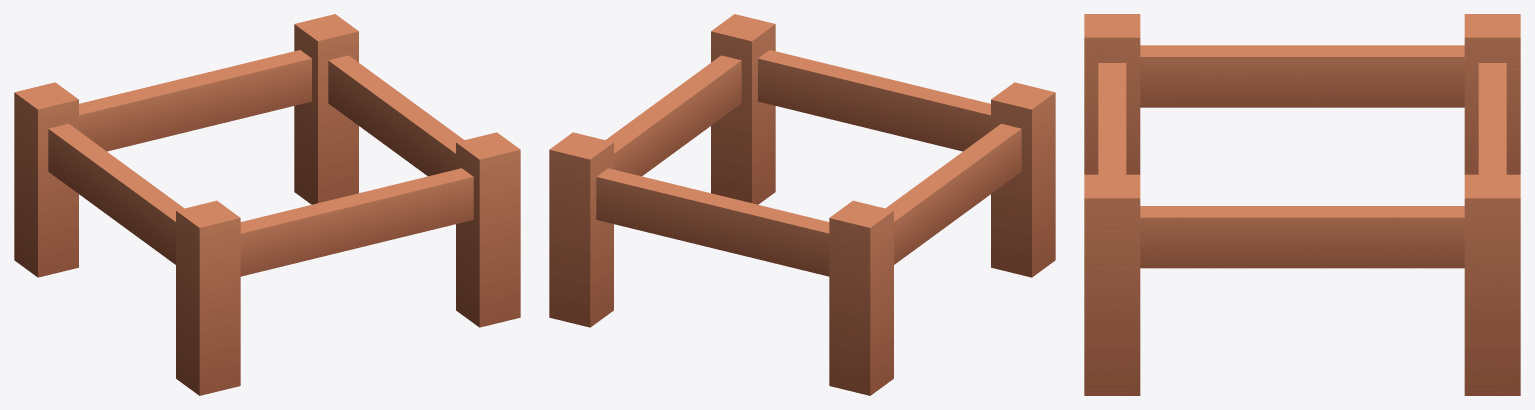
Rendered from tower-defense-kit--wood-structure.glb.
3 renders of one model, left to right at view 1: azimuth 30°, elevation 25°; view 2: azimuth 150°, elevation 25°; view 3: azimuth 270°, elevation 25°, orthographic. The views are drawn at different scales.
Visible parts, largest first — view 1: wood-structure; view 2: wood-structure; view 3: wood-structure.
Part boxes in pixels (box(x1,y1,x2,y2)): wood-structure: box(14, 14, 520, 395); wood-structure: box(549, 14, 1055, 395); wood-structure: box(1084, 14, 1520, 395).
Size of the model in its own units: 1 by 0.5 by 1.
1 material, 1 textured.
